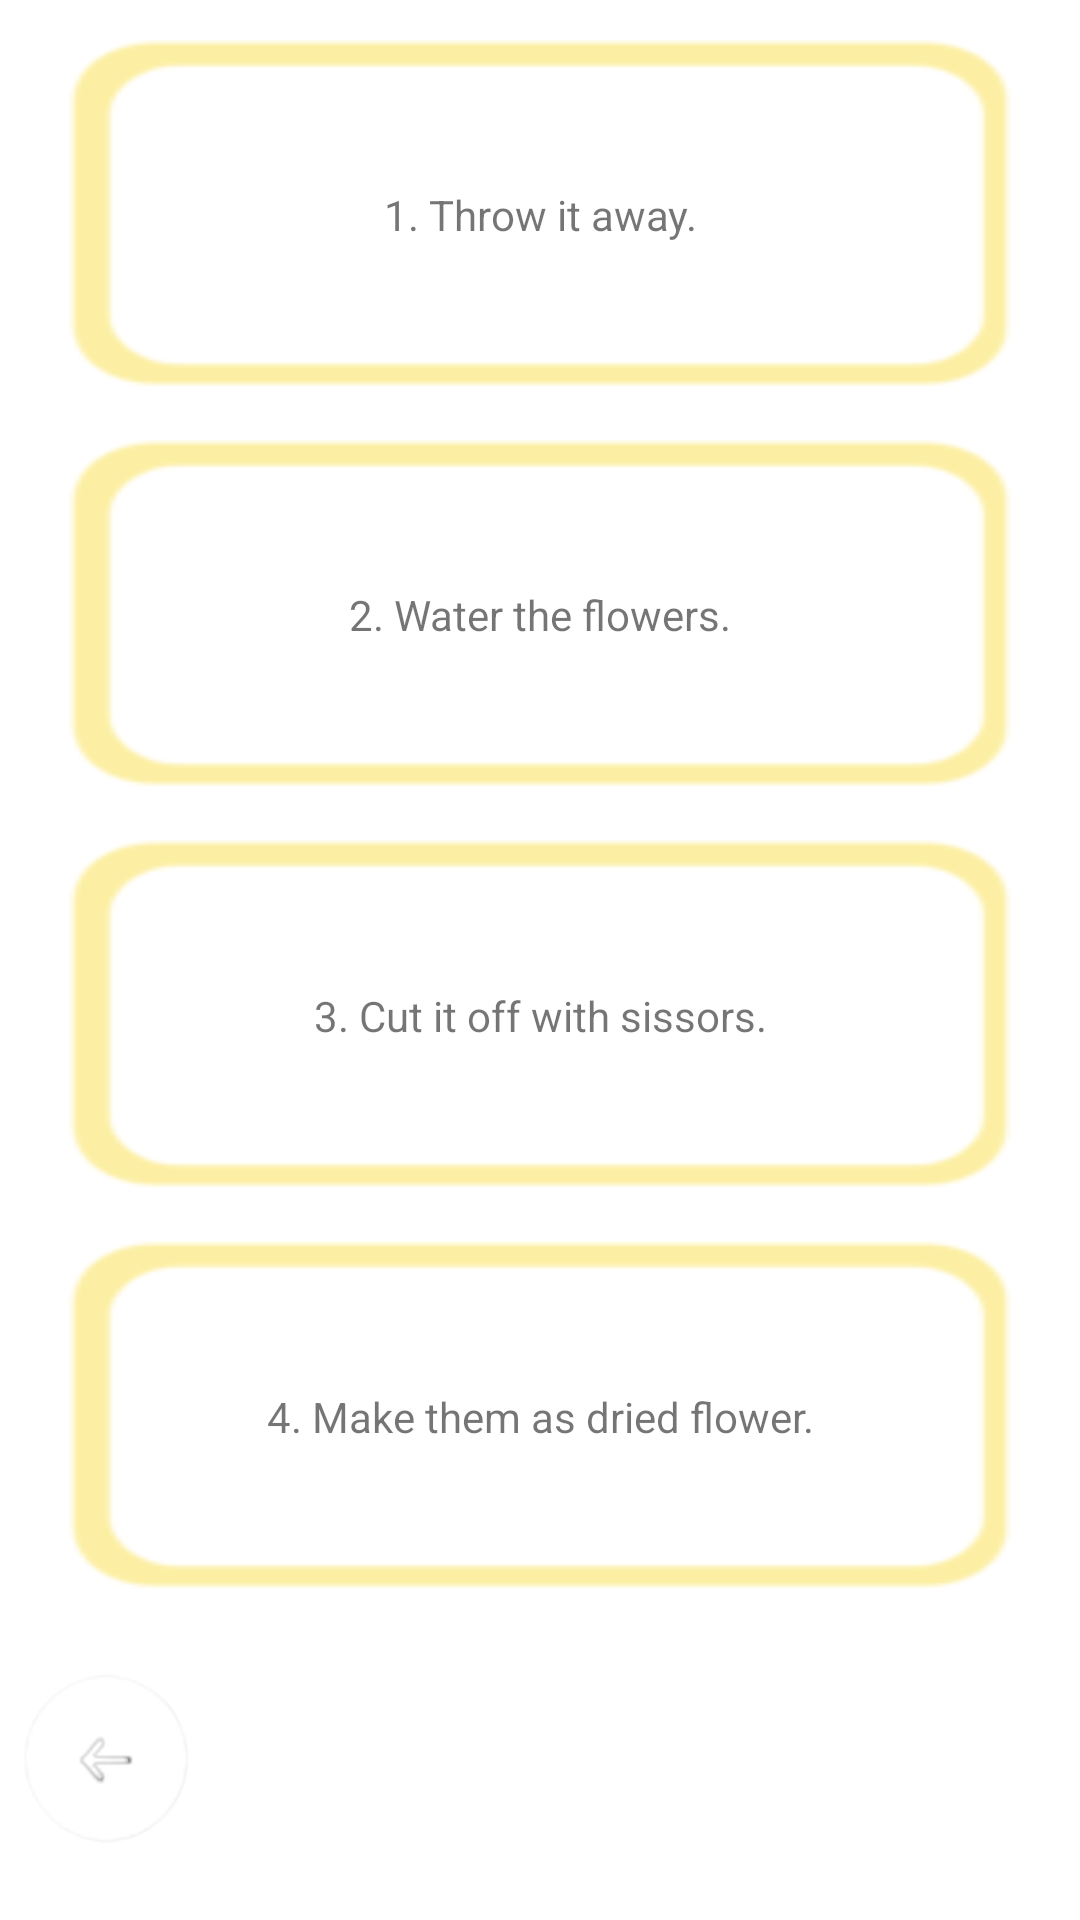

Where icons sit on this 1080 x 1920 app screen, as [left=x1, top=y1, right=x2, bottom=y2]:
previous: [left=80, top=1738, right=132, bottom=1782]
